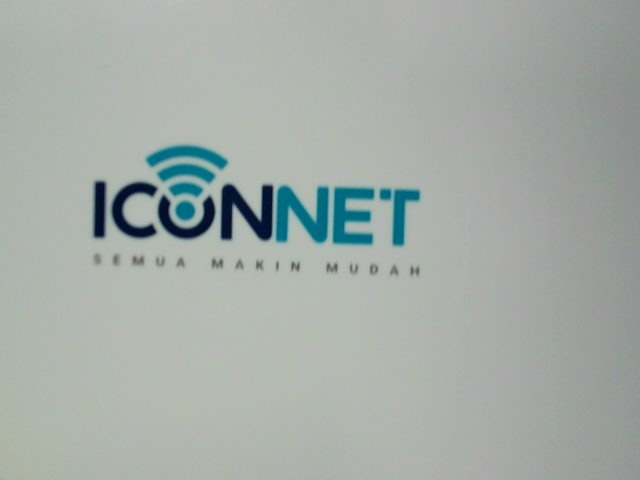BM_ICONNET: (85, 124, 437, 293)
